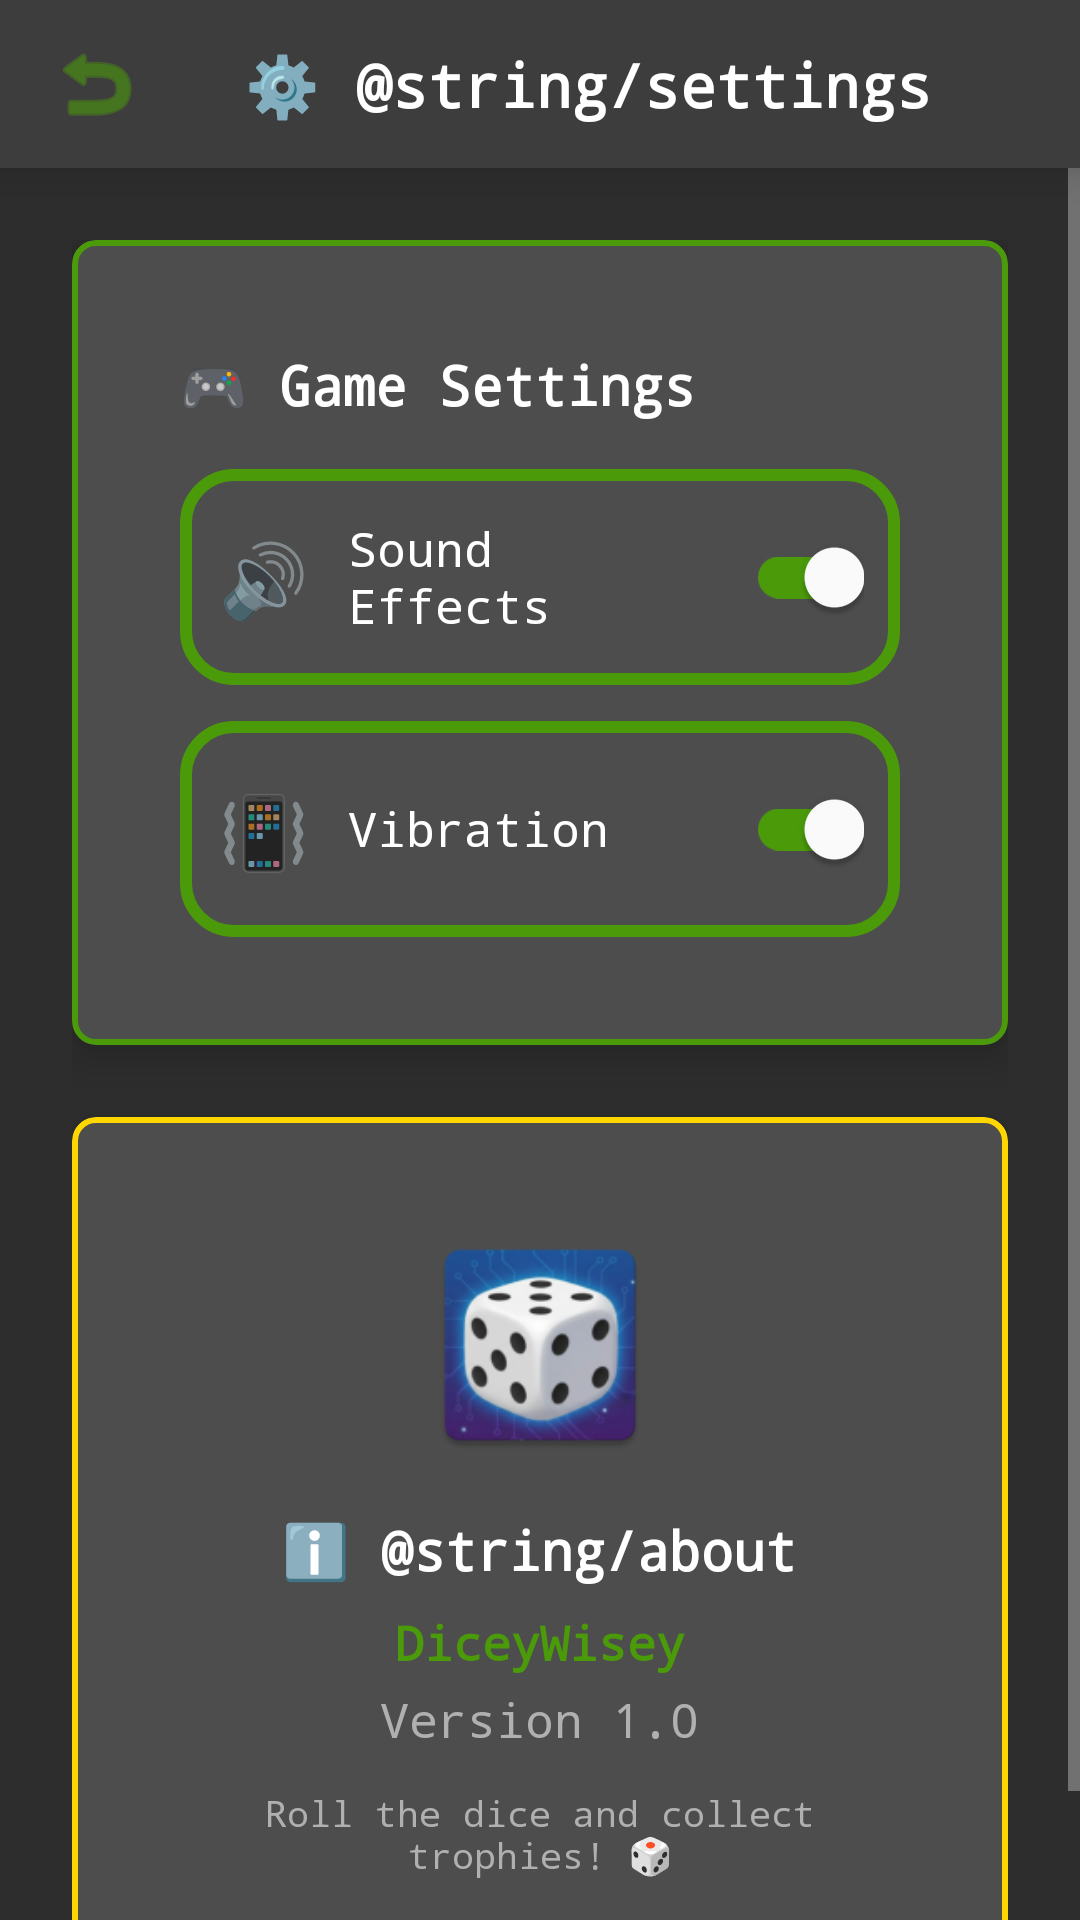

Where icons sit on this 1080×1920 app screen, as detection(x1, y1, x2, y2):
revert: detection(63, 54, 131, 115)
